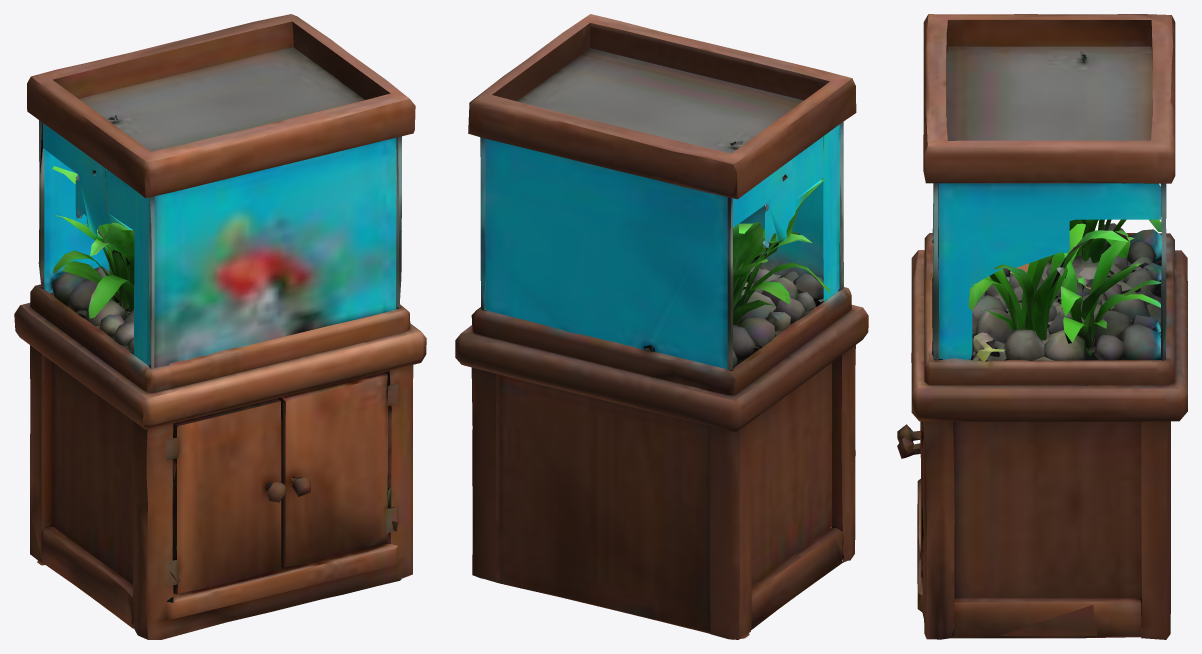
File: pecera.glb
3 renders of one model, left to right at view 1: azimuth 30°, elevation 25°; view 2: azimuth 150°, elevation 25°; view 3: azimuth 270°, elevation 25°, orthographic. The views are drawn at different scales.
Visible parts, largest first — view 1: objeto; view 2: objeto; view 3: objeto.
Part boxes in pixels (bbox=[...]): objeto: bbox=[14, 14, 426, 639]; objeto: bbox=[455, 14, 868, 639]; objeto: bbox=[897, 14, 1187, 639].
Size of the model in its own units: 0.6881 by 1.05 by 0.558.
Materials: 1 (1 with a texture image).
